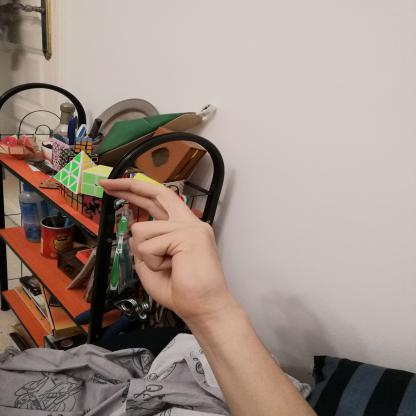ZAY: (88, 172, 235, 322)
